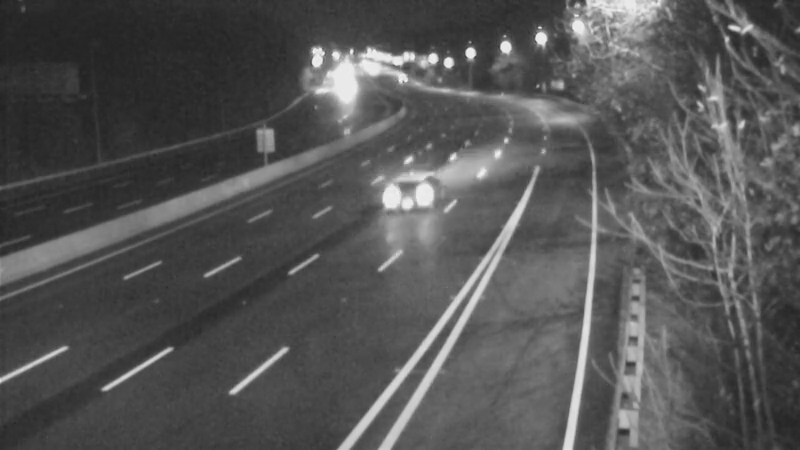vehicle: (365, 157, 445, 237), (379, 52, 429, 102)
